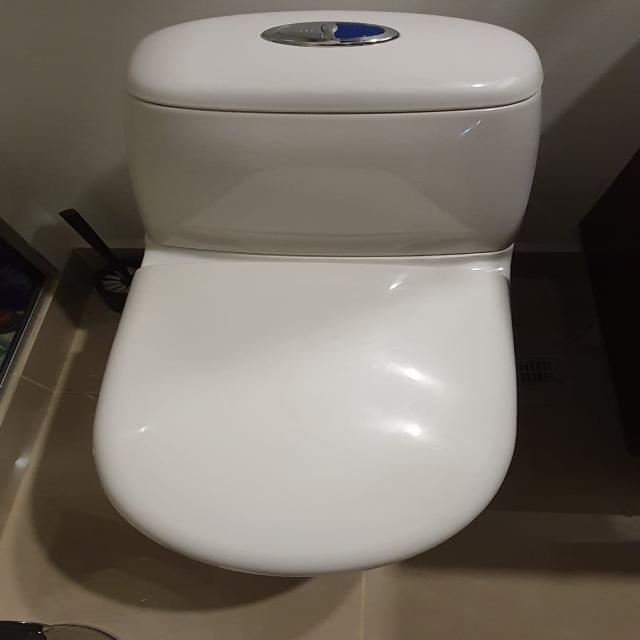toilet: (90, 10, 544, 578)
